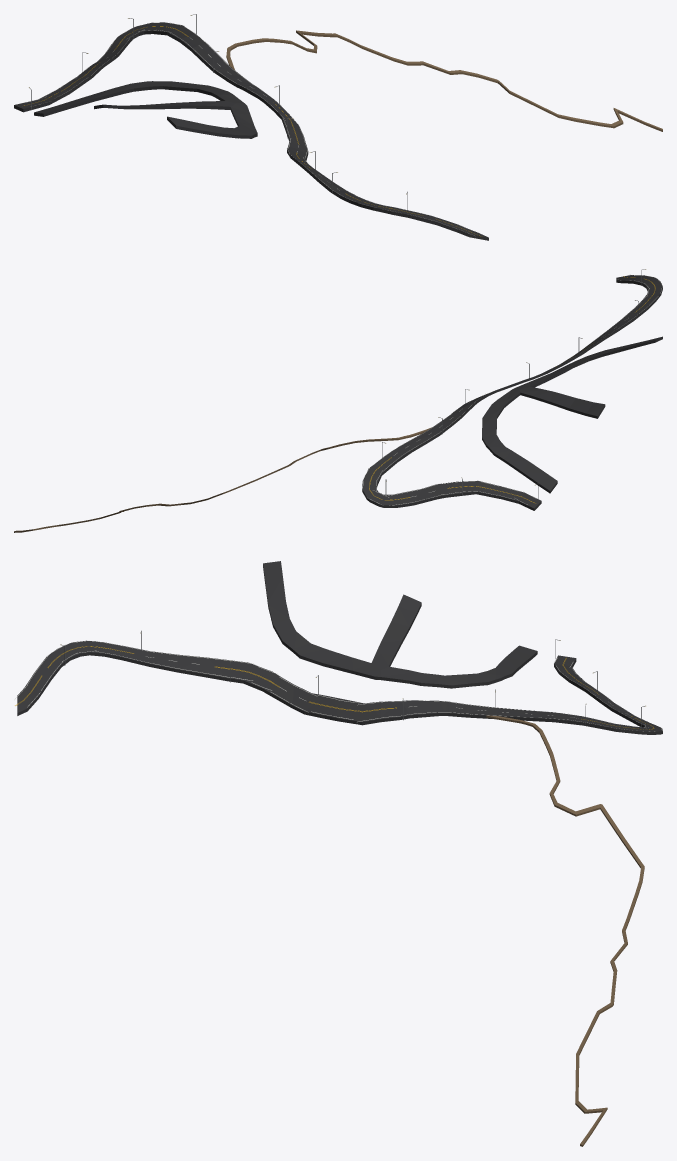
The picture shows the model from 3 angles, top to bottom: view 1: azimuth 30°, elevation 25°; view 2: azimuth 150°, elevation 25°; view 3: azimuth 270°, elevation 25°; orthographic projection. The views are drawn at different scales.
Bounding box in the file's own units: 252 × 106 × 225.
